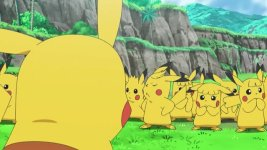pikachu: (1, 1, 131, 150), (225, 67, 264, 135), (186, 79, 231, 131), (142, 66, 176, 129), (121, 65, 148, 123)
